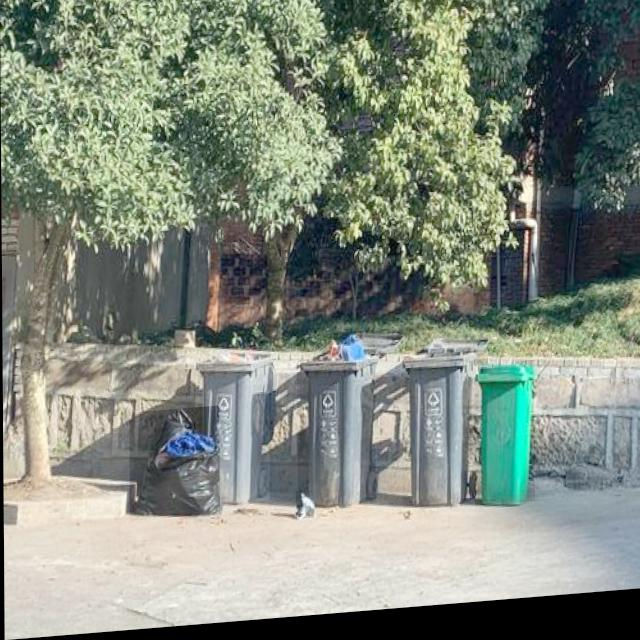garbage: (128, 409, 219, 523), (295, 495, 313, 524)
garbage_bin: (402, 359, 471, 515), (473, 369, 534, 514)
overflow: (297, 336, 376, 514), (194, 350, 269, 510)
